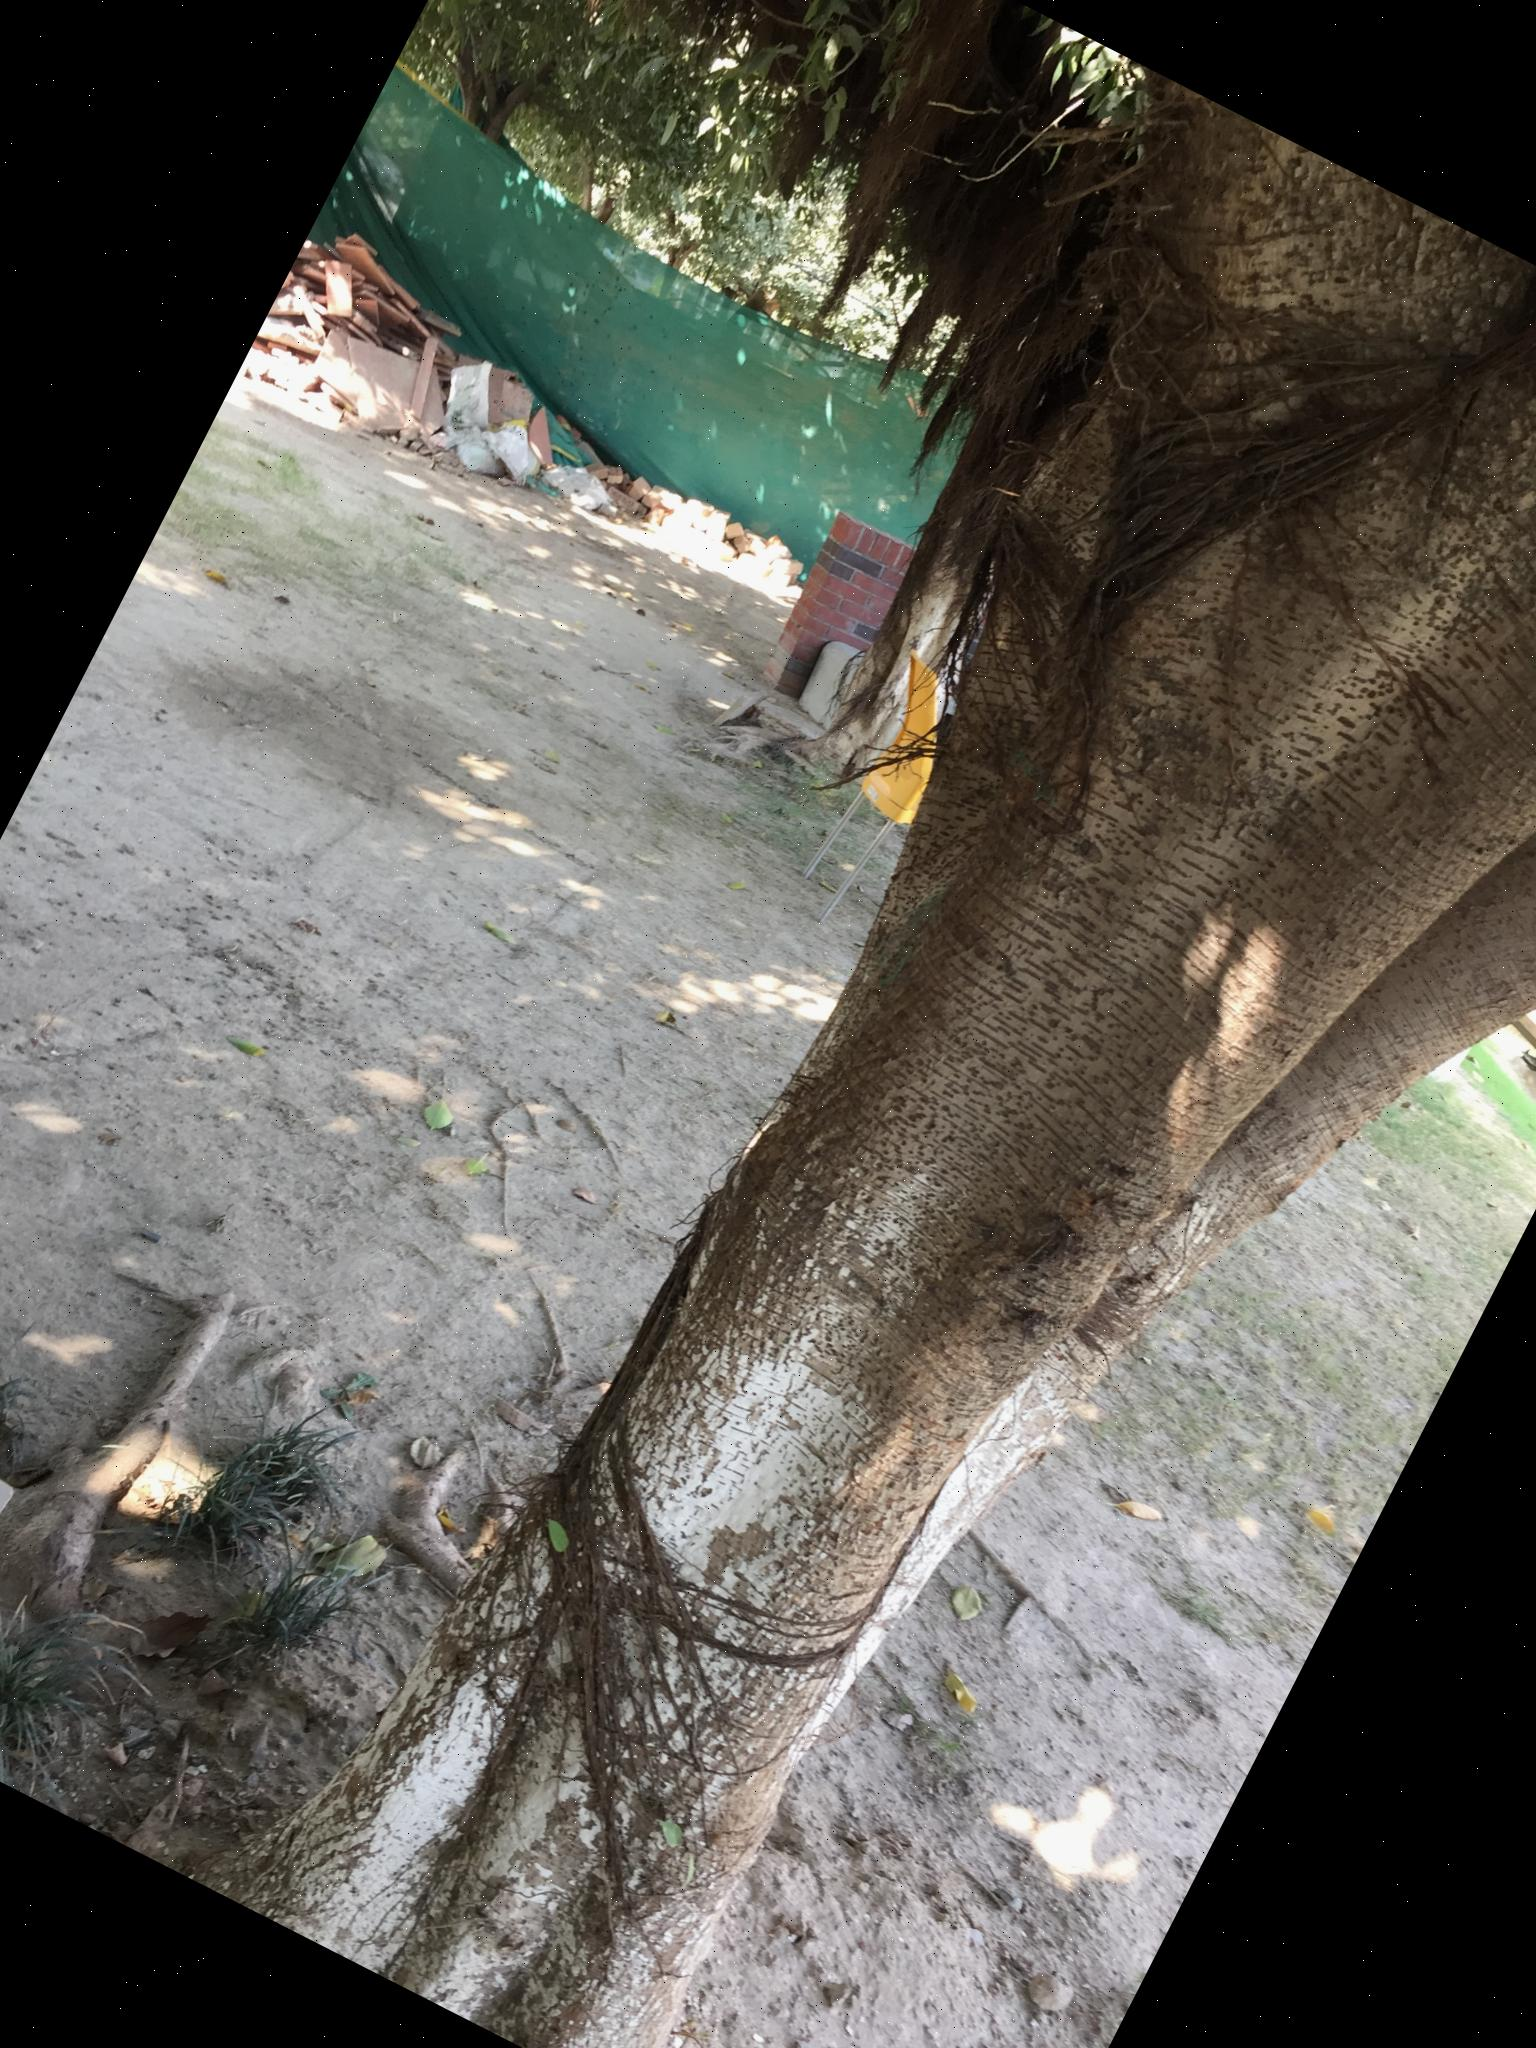chair: (781, 648, 991, 942)
